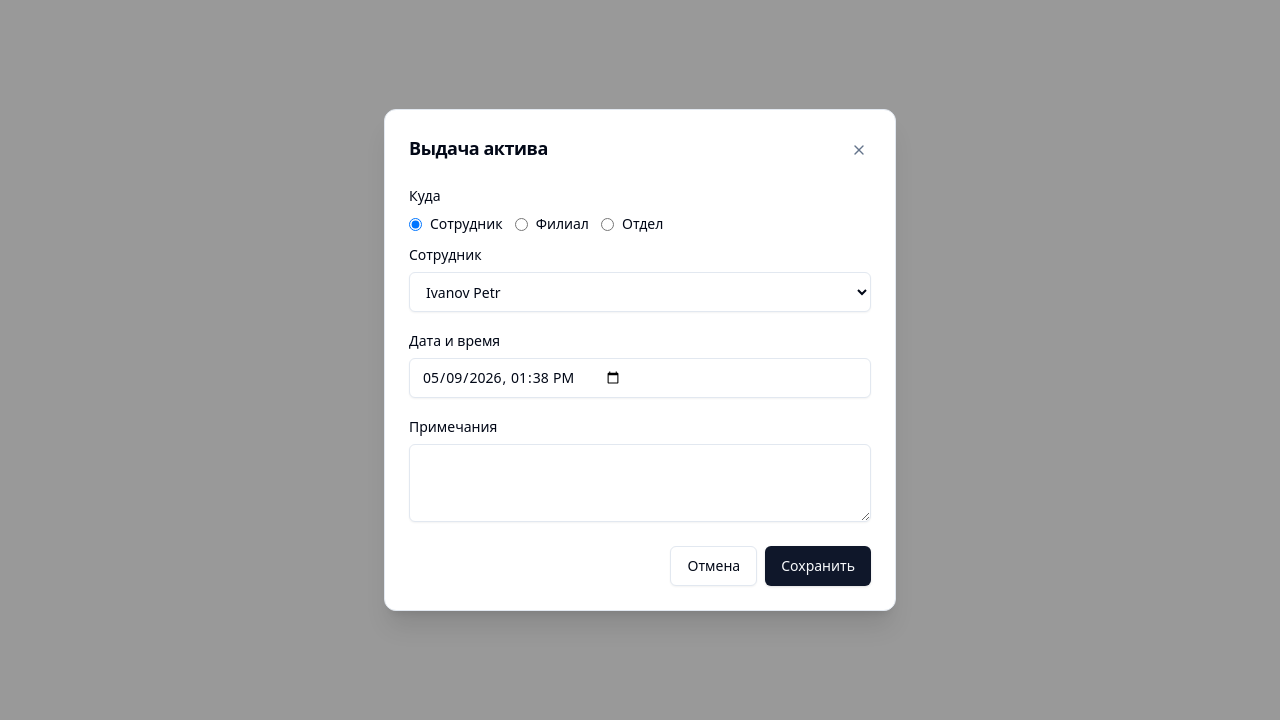
Test: AssignDialog › conflict handling › shows a generic submit error for non-conflict failures
The image size is (1280, 720).
Step 1. Select "Z Khach" in the dropdown with id "assign-employee" → (640,292), box [409,272,871,312]
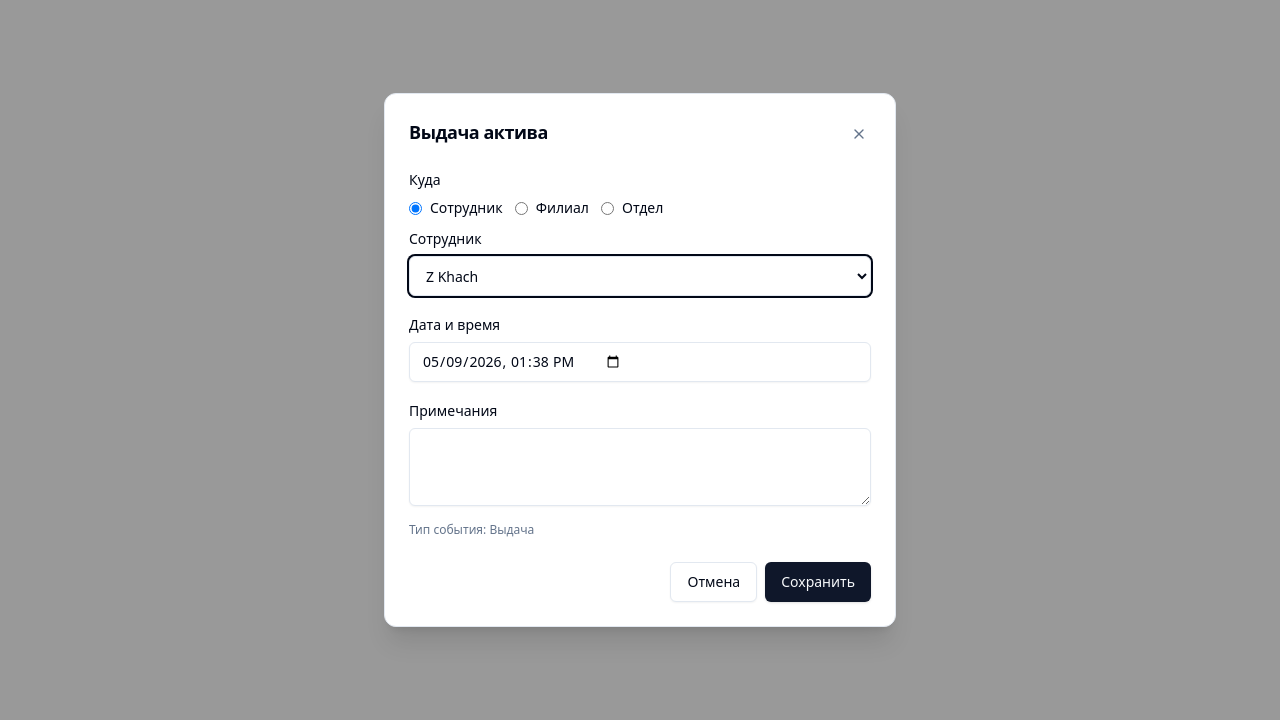
Step 2. Click the button "Сохранить" → (818,582), box [765,562,871,602]
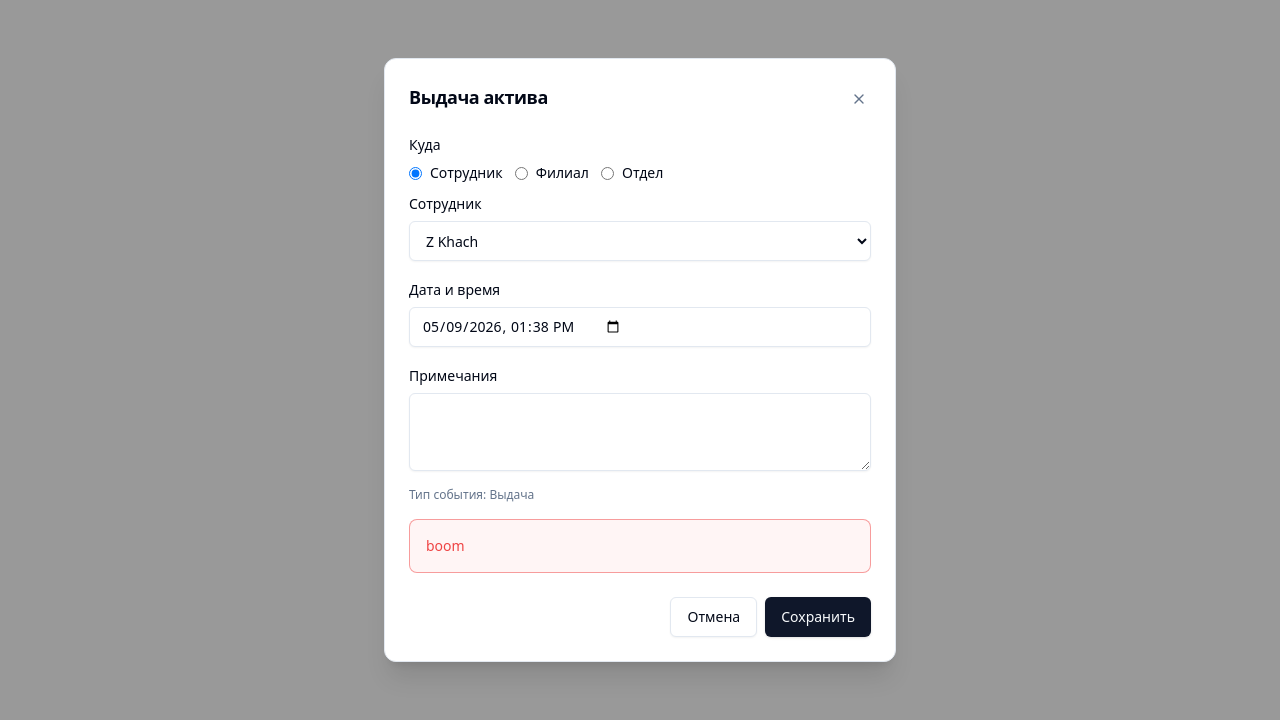
Check: the text "boom" is shown, box [426,536,465,555]
